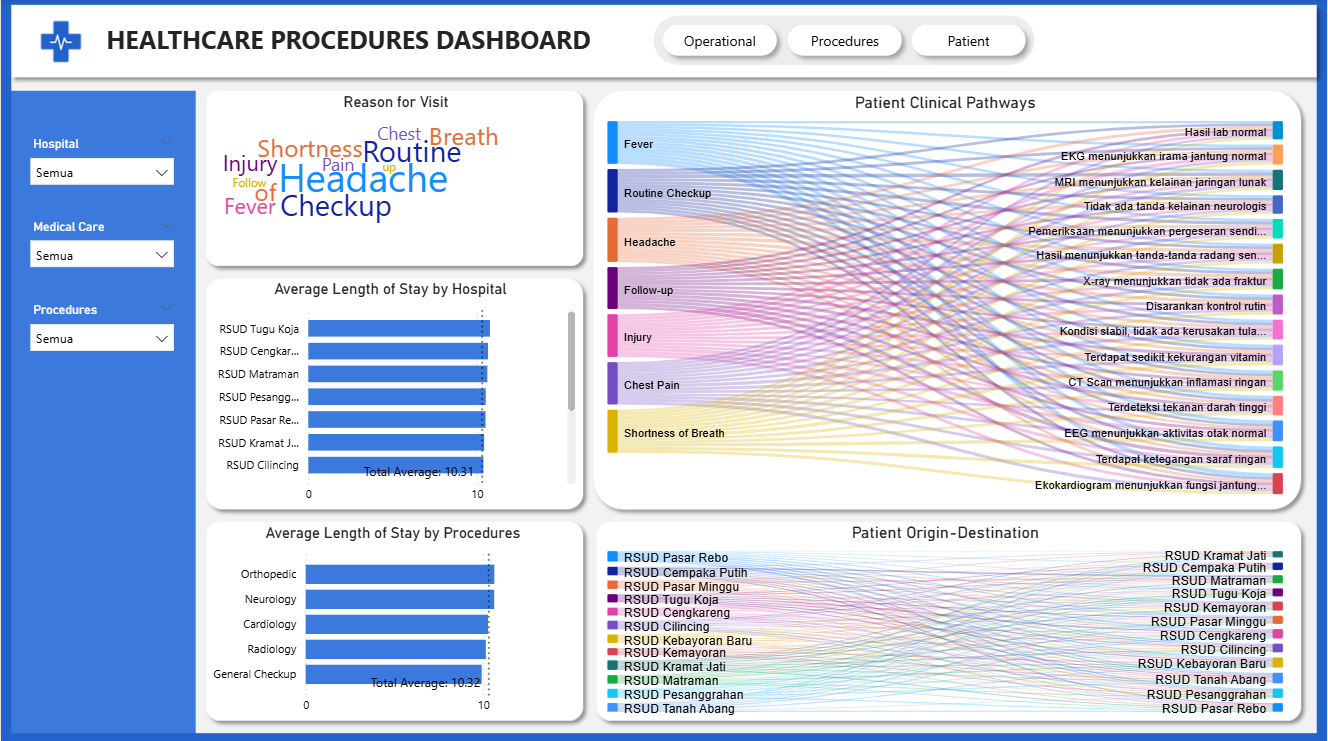

What the dashboard file says about the page in this screenshot:
{"tool":"powerbi","page":{"name":"Procedures","canvas":[1280,720],"ordinal":1},"visuals":[{"type":"WordCloud1447959067750","title":"Reason for Visit","fields":{"Values":["Measure Table.Total Visit"],"Category":["Procedures History.Reason for Visit"]},"box":[200,90,362,167],"z":0},{"type":"clusteredBarChart","title":"Average Length of Stay by Hospital","fields":{"Y":["Measure Table.Average Length of Stay"],"Category":["Procedures History.Hospital Name"]},"box":[192,272,368,224],"z":1000},{"type":"sankey_diagram_visiochart_8c1a6a012eec472d899f79bf867da012","title":"Patient Clinical Pathways","fields":{"category":["Procedures History.Reason for Visit","Procedures History.Procedure Result"],"measure":["Measure Table.Total Visit"]},"box":[576,91,672,397],"z":2000},{"type":"clusteredBarChart","title":"Average Length of Stay by Procedures","fields":{"Y":["Measure Table.Average Length of Stay"],"Category":["Procedures History.Procedure Category"]},"box":[194,507,368,192],"z":3000},{"type":"sankey_diagram_visiochart_8c1a6a012eec472d899f79bf867da012","title":"Patient Origin-Destination","fields":{"category":["Hospital Flow.Hospital From","Hospital Flow.Hospital To"],"measure":["Count(Hospital Flow.Patient ID)"]},"box":[576,506,672,192],"z":4000},{"type":"textbox","title":"Dashboard Title","box":[96,18,640,48],"z":5000},{"type":"group","id":"g1","title":"Navigate Page","box":[630,16,368,48],"z":6000},{"type":"slicer","title":"Hospital Slicer","fields":{"Values":["Procedures History.Hospital Name"]},"box":[18,128,159,64],"z":7000},{"type":"slicer","title":"Medical Care Slicer","fields":{"Values":["Procedures History.Medical Care"]},"box":[18,208,159,64],"z":8000},{"type":"slicer","title":"Procedures Slicer","fields":{"Values":["Procedures History.Procedure Category"]},"box":[18,288,159,64],"z":9000},{"type":"shape","box":[630,16,368,48],"z":22500,"group":"g1"},{"type":"shape","box":[630,16,128,48],"z":23000,"group":"g1"},{"type":"shape","box":[751,16,128,48],"z":24000,"group":"g1"},{"type":"shape","box":[870,16,128,48],"z":25000,"group":"g1"}]}

Visuals, with their boxes in screenshot pixels (x1, y1, x2, y2), scaled from the page's 1280x720 canvas onto the 1328x741 screenshot:
"Reason for Visit" WordCloud1447959067750: rect(208, 93, 583, 264)
"Average Length of Stay by Hospital" clusteredBarChart: rect(199, 280, 581, 510)
"Patient Clinical Pathways" sankey_diagram_visiochart_8c1a6a012eec472d899f79bf867da012: rect(598, 94, 1295, 502)
"Average Length of Stay by Procedures" clusteredBarChart: rect(201, 522, 583, 719)
"Patient Origin-Destination" sankey_diagram_visiochart_8c1a6a012eec472d899f79bf867da012: rect(598, 521, 1295, 718)
"Dashboard Title" textbox: rect(100, 19, 764, 68)
"Navigate Page" group: rect(654, 16, 1035, 66)
"Hospital Slicer" slicer: rect(19, 132, 184, 198)
"Medical Care Slicer" slicer: rect(19, 214, 184, 280)
"Procedures Slicer" slicer: rect(19, 296, 184, 362)
shape: rect(654, 16, 1035, 66)
shape: rect(654, 16, 786, 66)
shape: rect(779, 16, 912, 66)
shape: rect(903, 16, 1035, 66)
